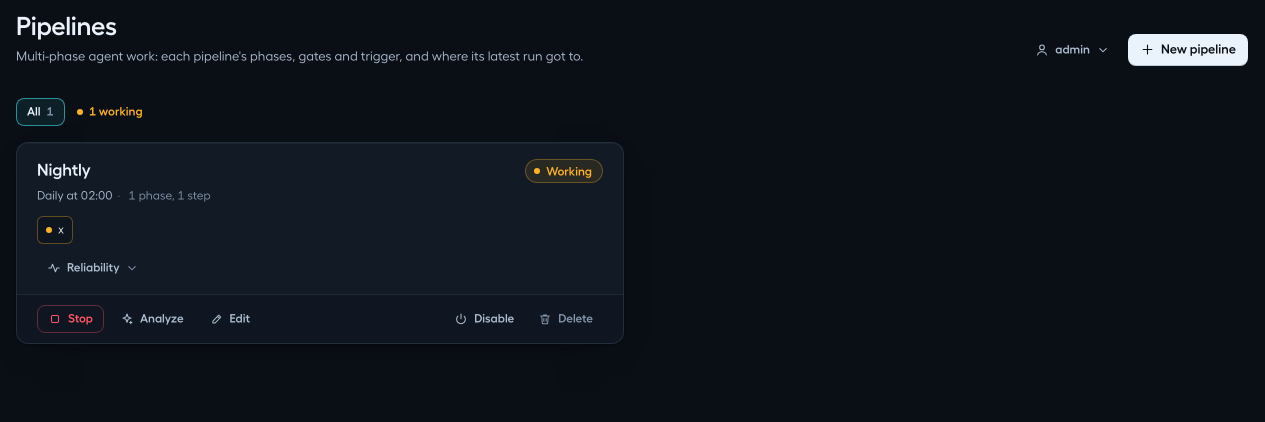
Pipelines tab › asks before deleting, and Keep deletes nothing and hands focus back
Click the button with aria-label "Delete Nightly".
click(566, 319)  # box [528,305,603,333]
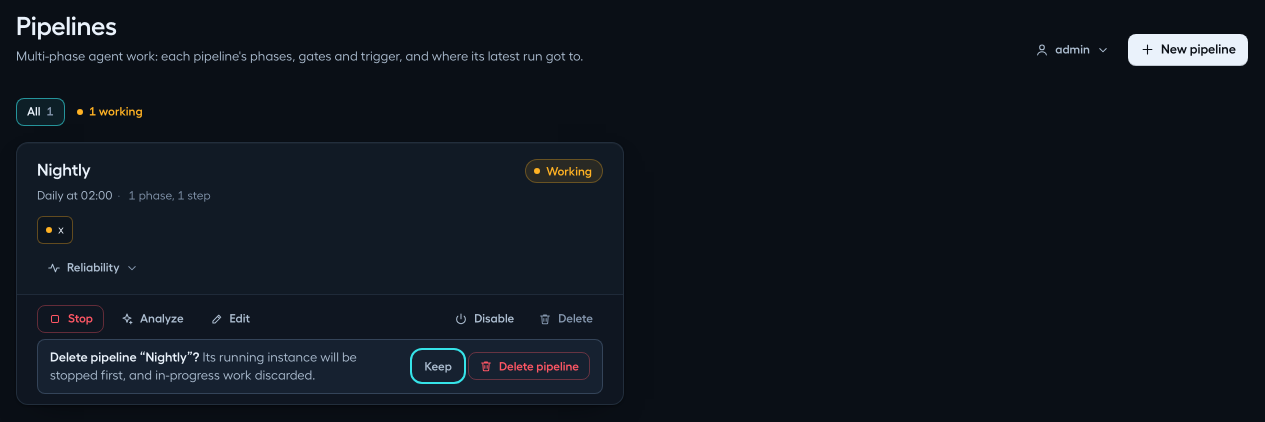
Click the button "Keep".
click(438, 366)  # box [414,352,462,380]
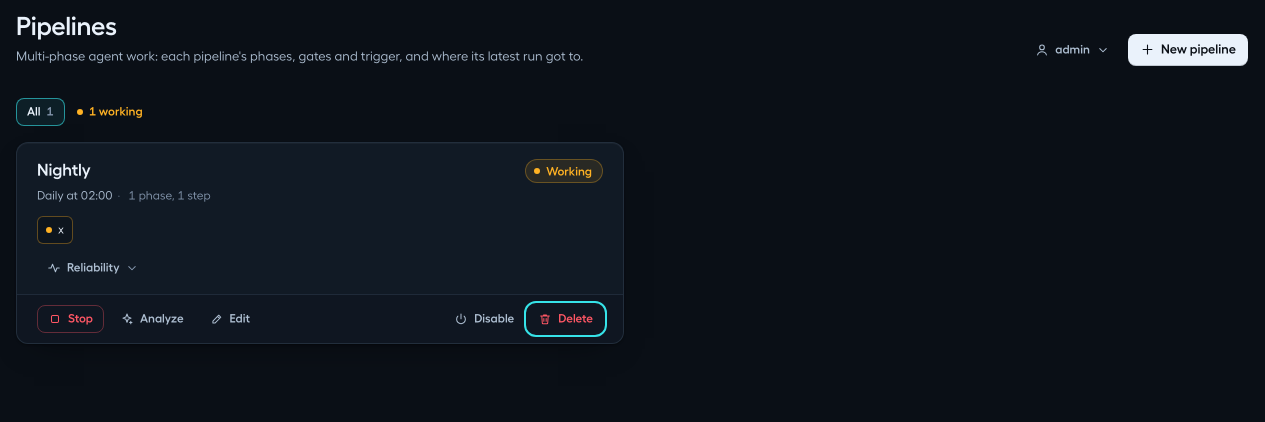
expect the text "Delete pipeline" is gone: met
